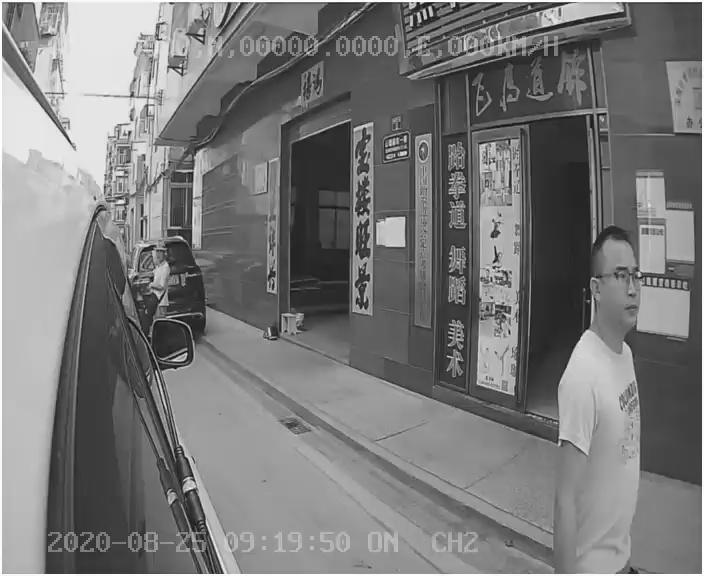person: (538, 231, 658, 567)
